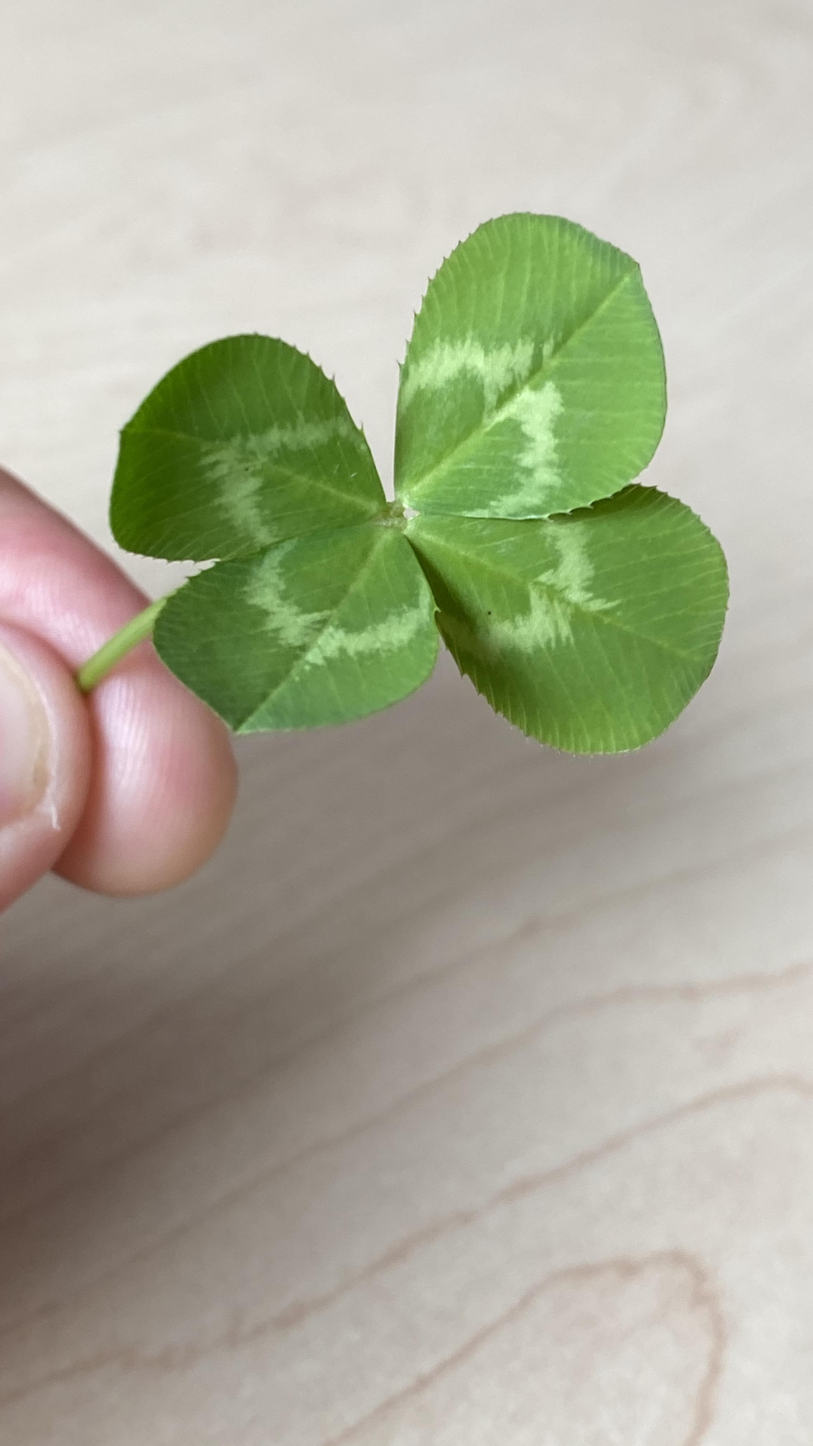4-Leaf-Clovers: (123, 145, 425, 1222)
